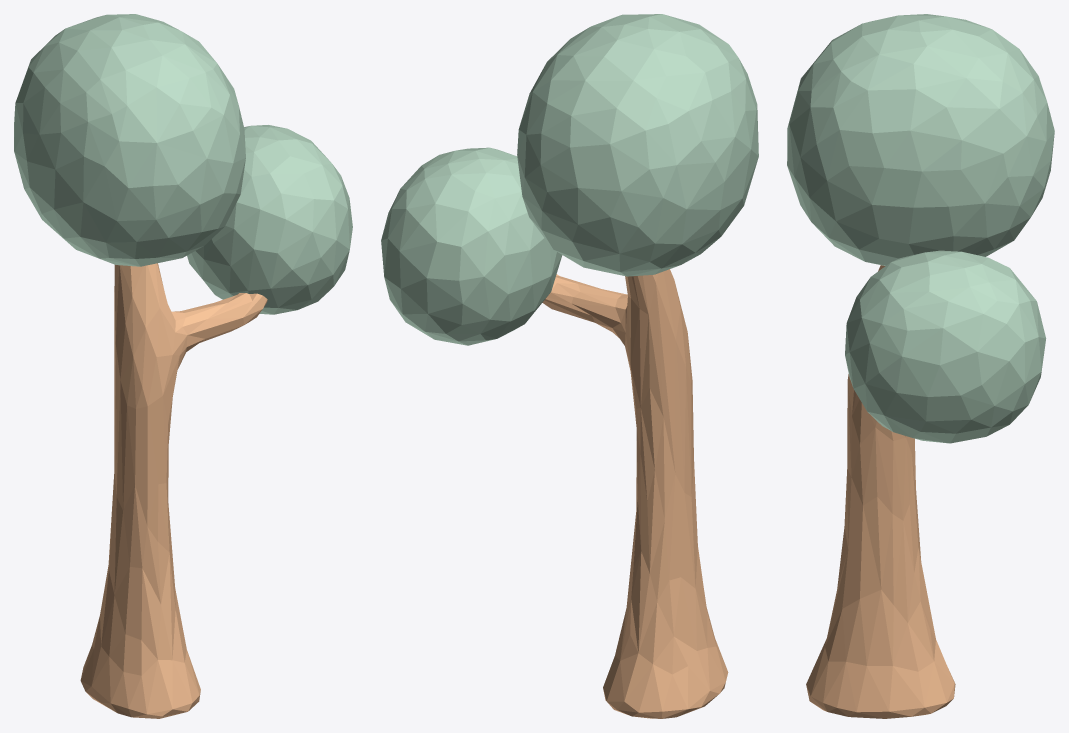
File: Arbre1_small_smooth.fbx
3 views of the same model, side by side, from view 1: azimuth 30°, elevation 25°; view 2: azimuth 150°, elevation 25°; view 3: azimuth 270°, elevation 25° (orthographic). The views are drawn at different scales.
Visible parts, largest first — view 1: Arbre1_small_smoth; view 2: Arbre1_small_smoth; view 3: Arbre1_small_smoth.
Boxes of the visible parts, left/top/right/bottom form: Arbre1_small_smoth: left=14, top=14, right=352, bottom=718; Arbre1_small_smoth: left=381, top=14, right=758, bottom=718; Arbre1_small_smoth: left=787, top=14, right=1054, bottom=718.
Bounding box in the file's own units: 1.49 × 3 × 1.07.
